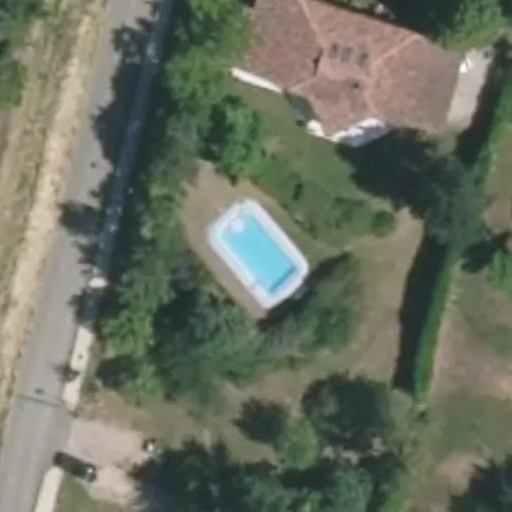pool: (217, 225, 294, 258)
